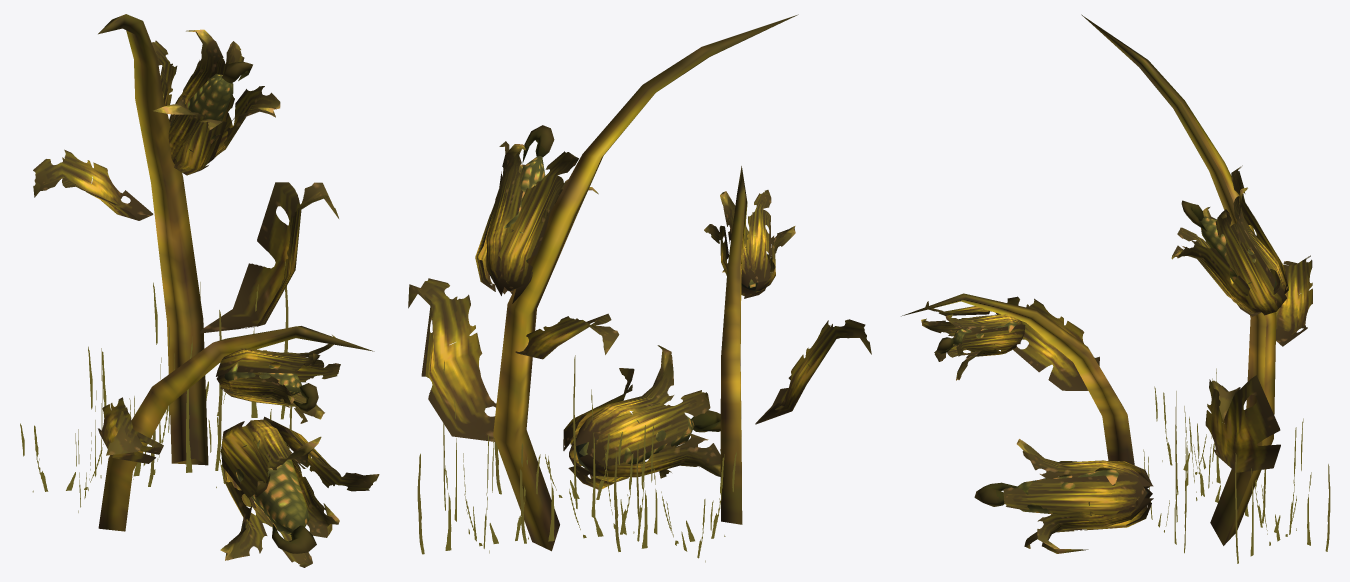
Rendered from corn_broke.FBX.
3 renders of one model, left to right at view 1: azimuth 30°, elevation 25°; view 2: azimuth 150°, elevation 25°; view 3: azimuth 270°, elevation 25°, orthographic. The views are drawn at different scales.
Parts seen in each view (by area): view 1: corn_broke; view 2: corn_broke; view 3: corn_broke.
Part boxes in pixels (x1,y1,x2,y2): corn_broke: (20, 14, 379, 567); corn_broke: (408, 14, 871, 562); corn_broke: (901, 14, 1330, 563).
Size of the model in its own units: 3.34 by 4.9 by 4.18.
Materials: 1 (1 with a texture image).
